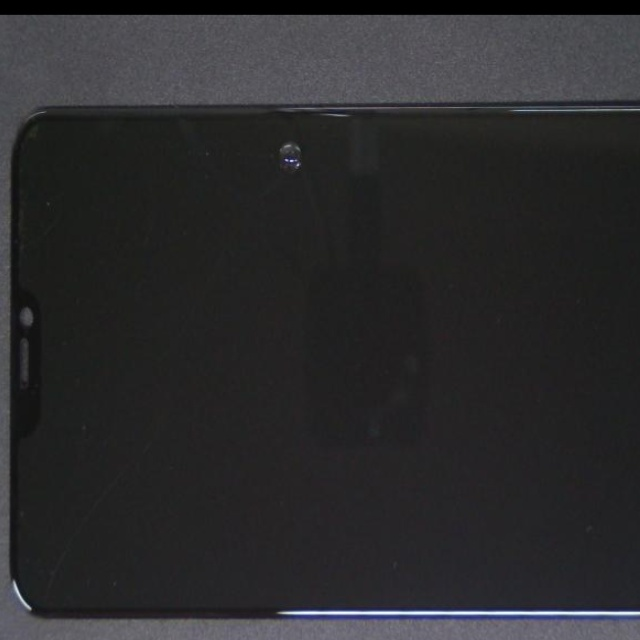oil: (148, 50, 424, 189)
